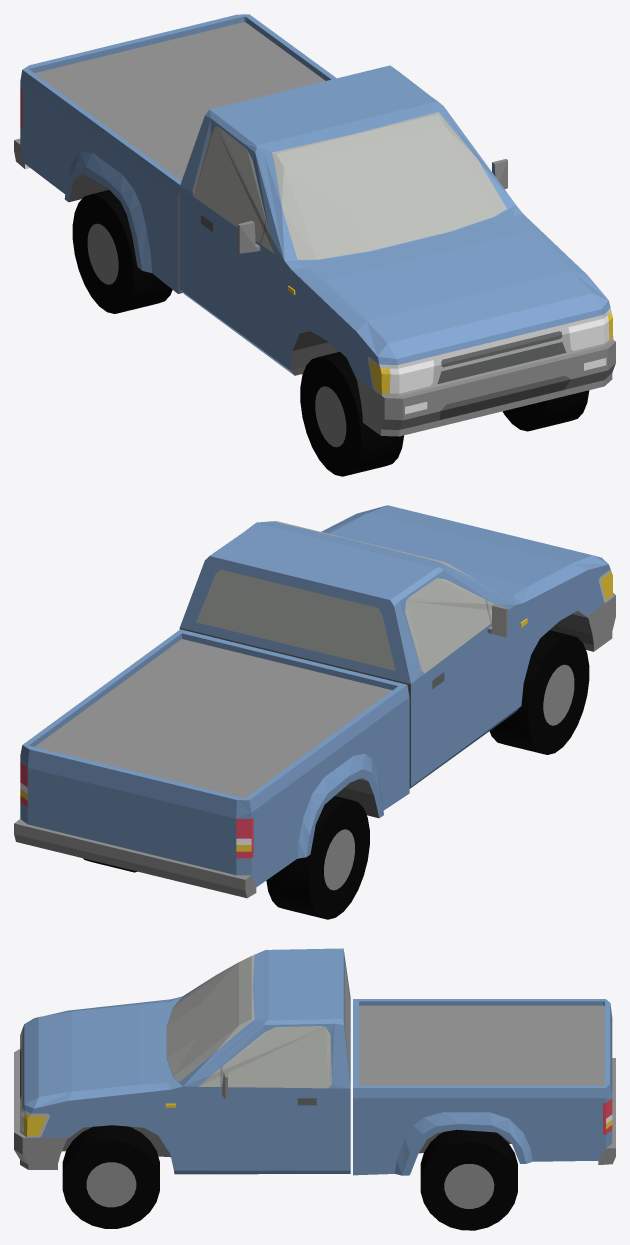
File: toyota-hilux-1997.glb
3 views of the same model, one above another, from view 1: azimuth 30°, elevation 25°; view 2: azimuth 150°, elevation 25°; view 3: azimuth 270°, elevation 25° (orthographic). The views are drawn at different scales.
Visible parts, largest first — view 1: Mesh1 Model, CG_wheel_1, CG_wheel_0, CG_wheel_2; view 2: Mesh1 Model, CG_wheel_0, CG_wheel_1; view 3: Mesh1 Model, CG_wheel_2, CG_wheel_3.
Boxes of the visible parts, x1,y1,x2,y2 form: Mesh1 Model: [14, 14, 615, 436]; CG_wheel_1: [300, 352, 403, 476]; CG_wheel_0: [72, 190, 172, 313]; CG_wheel_2: [502, 390, 589, 431]; Mesh1 Model: [14, 505, 615, 898]; CG_wheel_0: [266, 796, 369, 919]; CG_wheel_1: [489, 630, 589, 754]; Mesh1 Model: [14, 948, 615, 1175]; CG_wheel_2: [62, 1125, 159, 1228]; CG_wheel_3: [420, 1129, 517, 1230].
Size of the model in its own units: 2.02 by 1.8 by 4.9.
